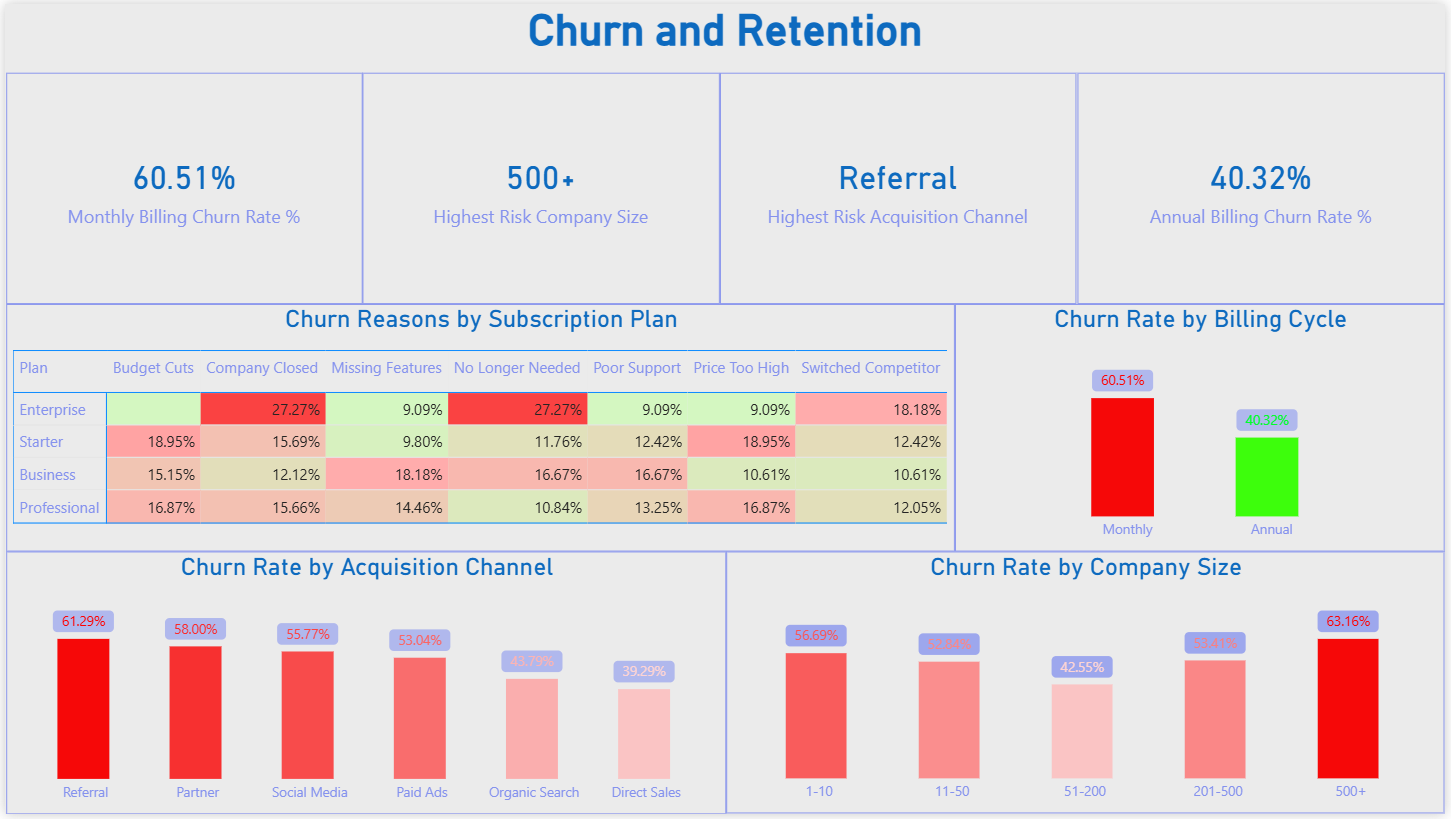

What the dashboard file says about the page in this screenshot:
{"tool":"powerbi","page":{"name":"Churn and Retention Dashboard","canvas":[1280,720],"ordinal":6},"visuals":[{"type":"card","fields":{"Values":["b2b_rev_analysis churn_by_billing_cycle.Billing Churn Rate %"]},"box":[1.1,61.1,316.7,205.6],"z":0,"group":"g1"},{"type":"card","fields":{"Values":["b2b_rev_analysis churn_by_billing_cycle.Annual Billing Churn Rate %"]},"box":[953.3,61.1,326.7,205.6],"z":1000,"group":"g1"},{"type":"columnChart","title":"Churn Rate by Billing Cycle","fields":{"Category":["b2b_rev_analysis churn_by_billing_cycle.billing_cycle"],"Y":["b2b_rev_analysis churn_by_billing_cycle.Billing Churn Rate %"]},"box":[844.4,266.7,435.6,220],"z":1000},{"type":"card","fields":{"Values":["KPI_Measures.Highest Risk Company Size"]},"box":[317.8,61.1,317.8,205.6],"z":2000,"group":"g1"},{"type":"columnChart","title":"Churn Rate by Company Size","fields":{"Category":["b2b_rev_analysis churn_by_company_size.company_size"],"Y":["b2b_rev_analysis churn_by_company_size.Company Size Churn Rate %"]},"box":[641.4,487.1,638.6,232.9],"z":2000},{"type":"card","fields":{"Values":["KPI_Measures.Highest Risk Acquisition Channel"]},"box":[635.5,61.1,316.7,205.6],"z":3000,"group":"g1"},{"type":"columnChart","title":"Churn Rate by Acquisition Channel","fields":{"Category":["b2b_rev_analysis churn_by_acquisition_channel.acquisition_channel"],"Y":["b2b_rev_analysis churn_by_acquisition_channel.Acquisition Channel Churn Rate %"]},"box":[1.1,486.7,640,233.3],"z":3000},{"type":"pivotTable","title":"Churn Reasons by Subscription Plan","fields":{"Columns":["b2b_rev_analysis churn_reason_by_plan.churn_reason"],"Rows":["b2b_rev_analysis churn_reason_by_plan.plan"],"Values":["b2b_rev_analysis churn_reason_by_plan.Plan Churn Reason %"]},"box":[1.1,266.7,843.3,220],"z":4000},{"type":"shape","title":"Churn and Retention","box":[1.4,0,1278.6,102.9],"z":5000},{"type":"group","id":"g1","title":"Group 1","box":[1.1,61.1,1278.9,205.6],"z":5001}]}

Visuals, with their boxes in screenshot pixels (x1, y1, x2, y2), scaled from the page's 1280x720 canvas onto the 1451x819 screenshot:
card - b2b_rev_analysis churn_by_billing_cycle.Billing Churn Rate %: <region>1, 70, 360, 303</region>
card - b2b_rev_analysis churn_by_billing_cycle.Annual Billing Churn Rate %: <region>1081, 70, 1450, 303</region>
"Churn Rate by Billing Cycle" columnChart: <region>957, 303, 1450, 554</region>
card - KPI_Measures.Highest Risk Company Size: <region>360, 70, 721, 303</region>
"Churn Rate by Company Size" columnChart: <region>727, 554, 1450, 818</region>
card - KPI_Measures.Highest Risk Acquisition Channel: <region>720, 70, 1079, 303</region>
"Churn Rate by Acquisition Channel" columnChart: <region>1, 554, 727, 818</region>
"Churn Reasons by Subscription Plan" pivotTable: <region>1, 303, 957, 554</region>
"Churn and Retention" shape: <region>2, 0, 1450, 117</region>
"Group 1" group: <region>1, 70, 1450, 303</region>
